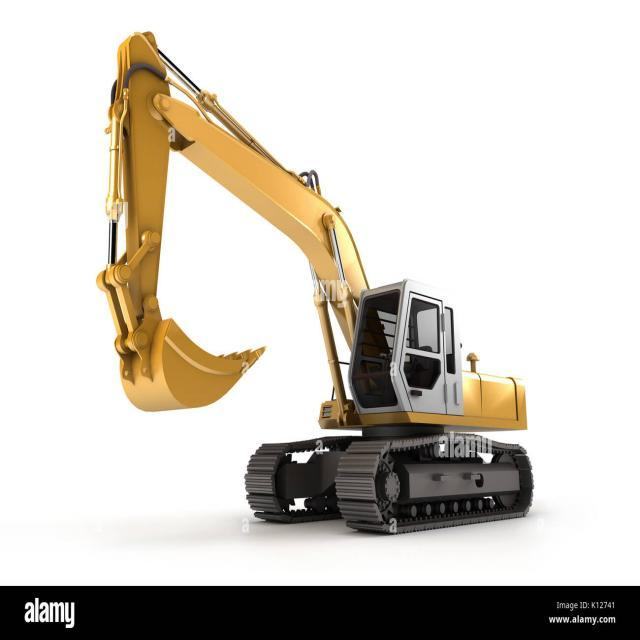C_E: (92, 28, 536, 536)
